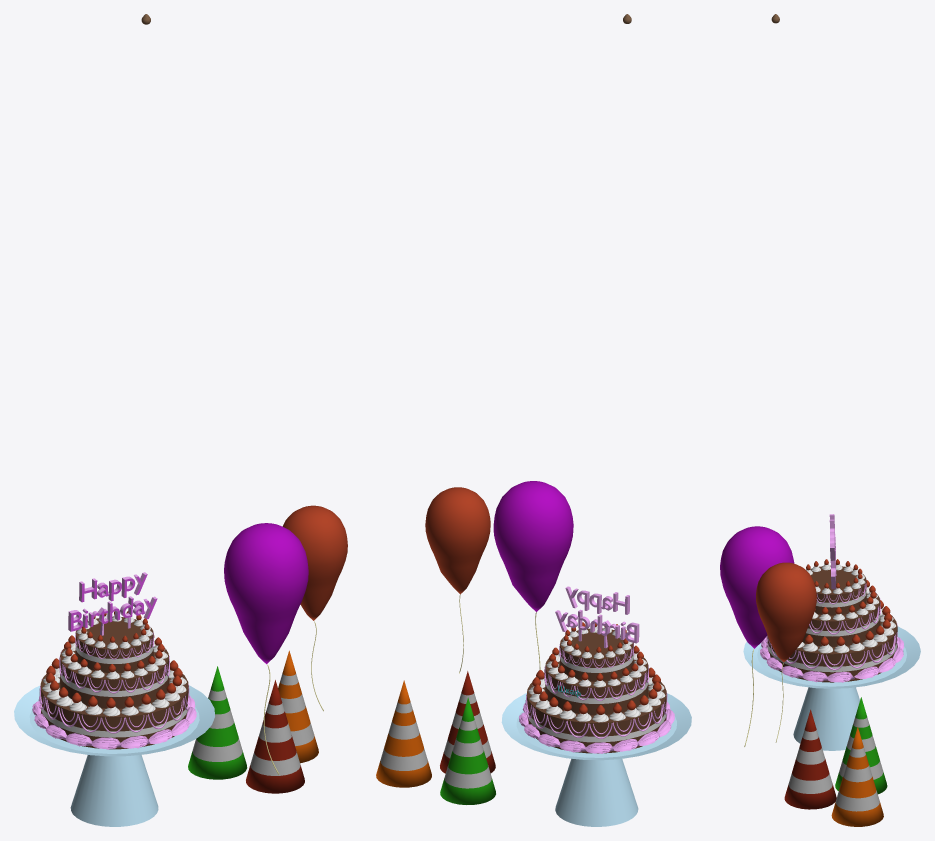
File: cake1.gltf
3 views of the same model, side by side, from view 1: azimuth 30°, elevation 25°; view 2: azimuth 150°, elevation 25°; view 3: azimuth 270°, elevation 25° (orthographic). The views are drawn at different scales.
Visible parts, largest first — view 1: Cake, Balloons, Birthday Hats, Cake Holder, Happy Birthday Decoration; view 2: Cake, Balloons, Birthday Hats, Cake Holder, Happy Birthday Decoration; view 3: Cake, Balloons, Birthday Hats, Cake Holder, Happy Birthday Decoration.
Boxes of the visible parts, x1=… form: Cake: x1=32, y1=14, x2=196, y2=749; Balloons: x1=224, y1=505, x2=347, y2=774; Birthday Hats: x1=188, y1=650, x2=318, y2=793; Cake Holder: x1=14, y1=685, x2=214, y2=826; Happy Birthday Decoration: x1=68, y1=572, x2=157, y2=635; Cake: x1=519, y1=14, x2=674, y2=753; Balloons: x1=425, y1=481, x2=573, y2=673; Birthday Hats: x1=376, y1=671, x2=495, y2=804; Cake Holder: x1=501, y1=693, x2=691, y2=826; Happy Birthday Decoration: x1=555, y1=586, x2=639, y2=648; Cake: x1=760, y1=14, x2=904, y2=682; Balloons: x1=720, y1=526, x2=816, y2=746; Birthday Hats: x1=784, y1=697, x2=887, y2=826; Cake Holder: x1=743, y1=626, x2=920, y2=750; Happy Birthday Decoration: x1=829, y1=514, x2=836, y2=589.
Bounding box in the file's own units: 4.7 × 12.16 × 3.07.
Materials: 6 (5 with a texture image).
